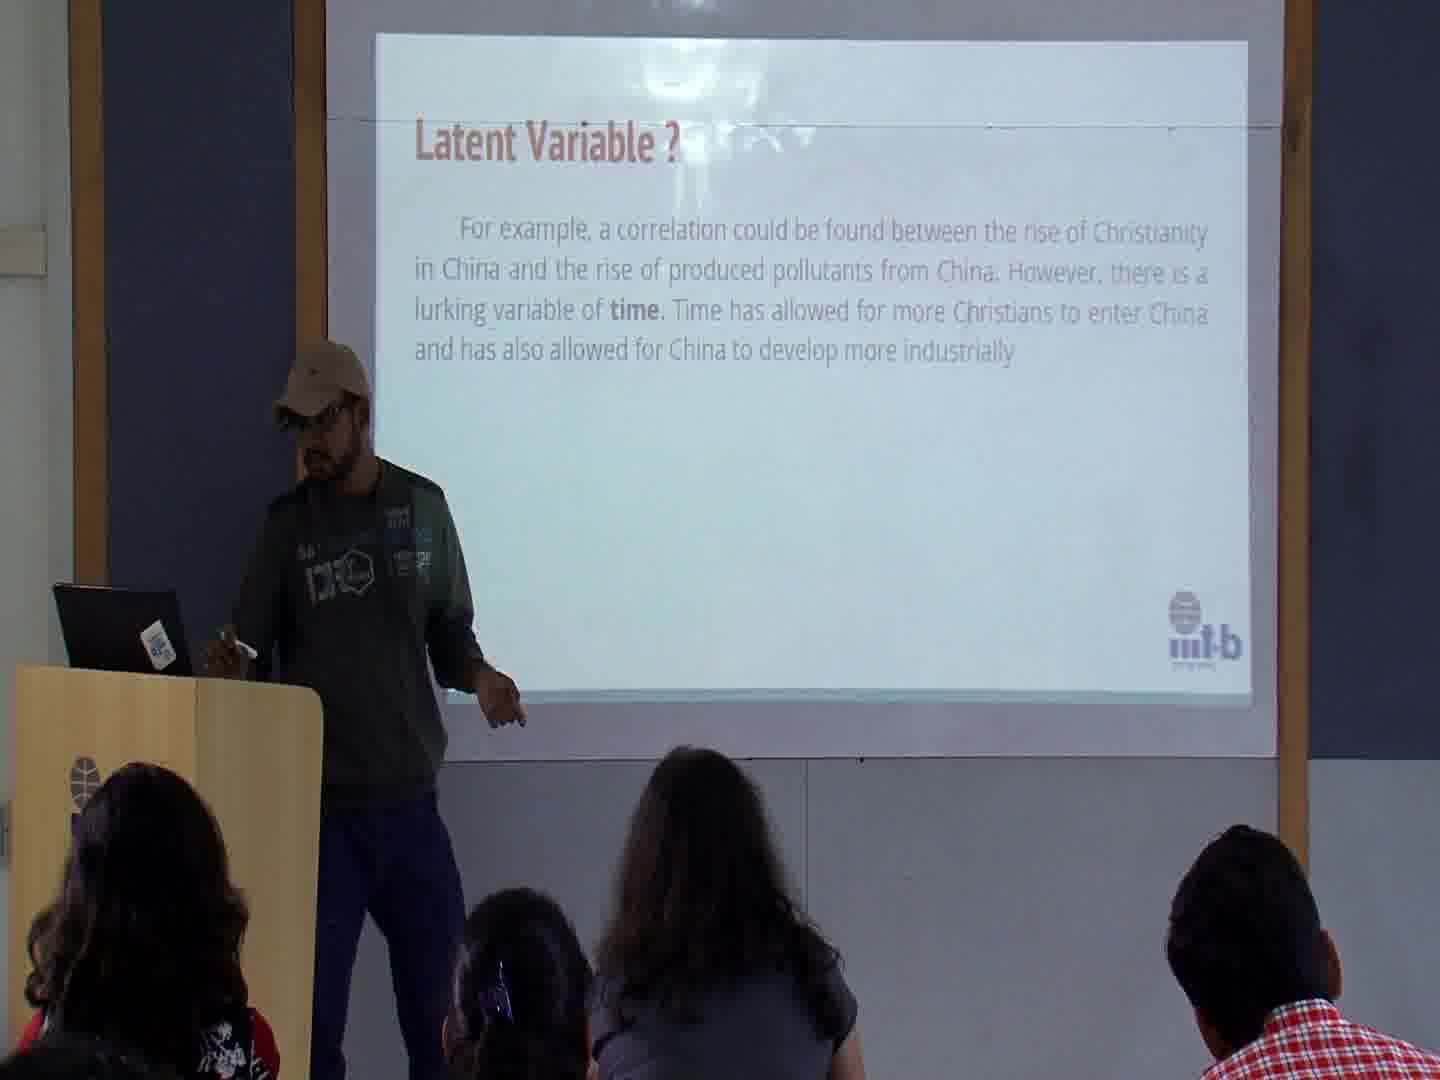slide: (375, 35, 1251, 706)
